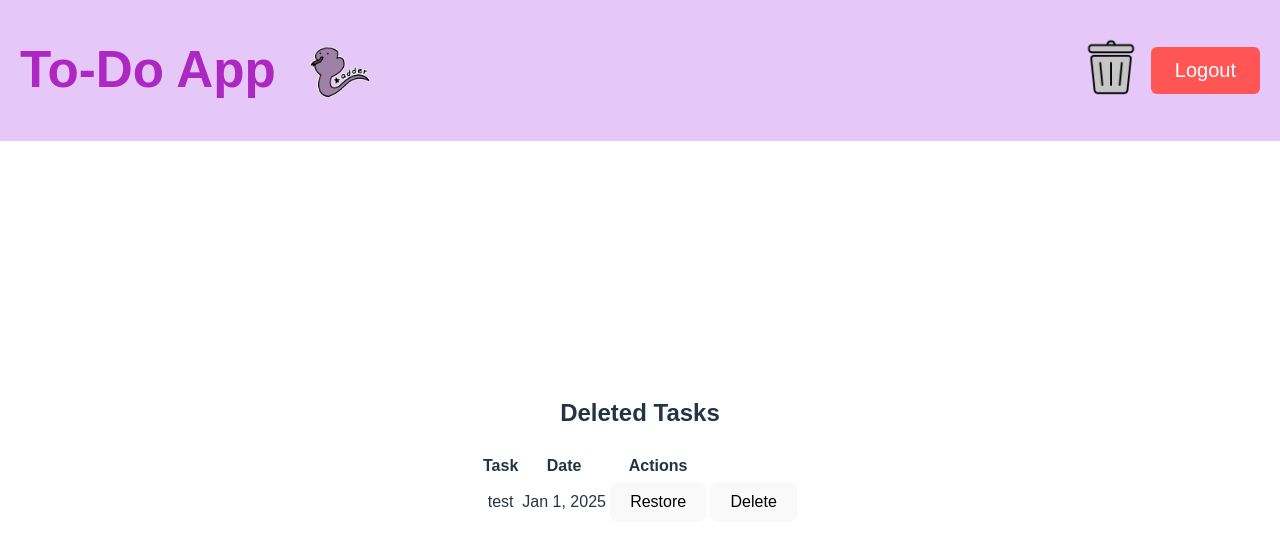
Test: restore tasks
Expected: the text "test" is shown, [482,481,519,522]
Click the button "Restore" at (658, 502), box [610,482,706,522]
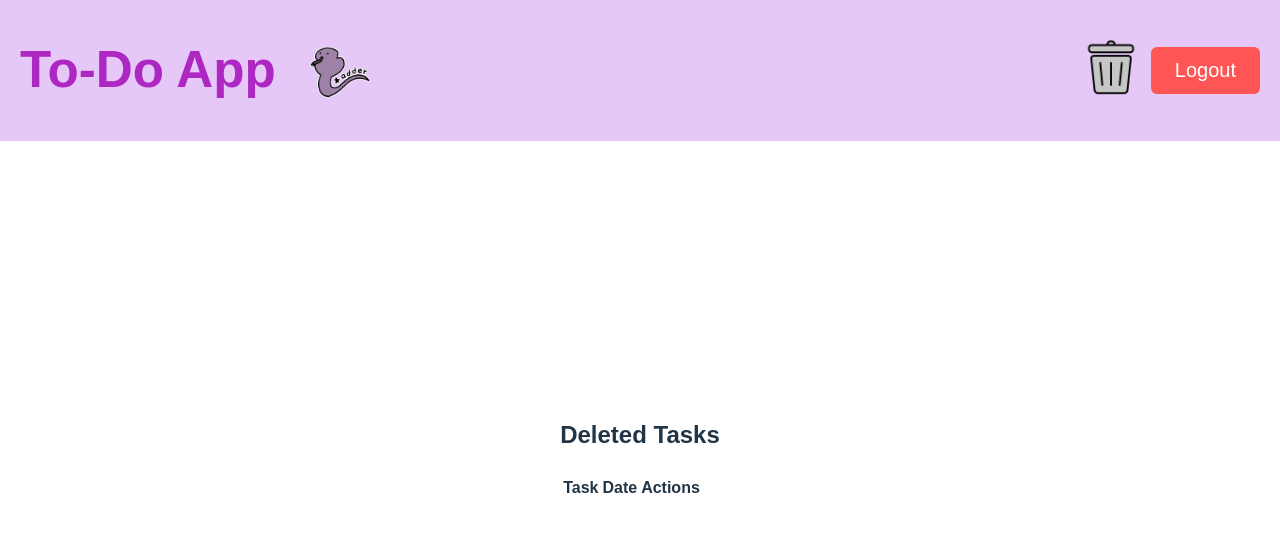
Now the text "test" is gone
